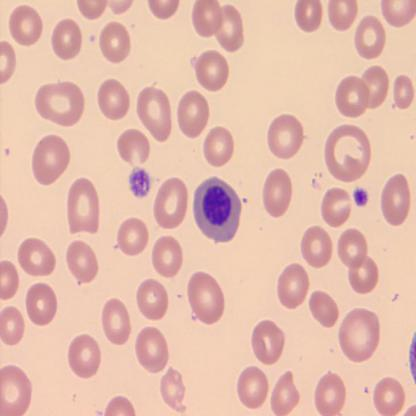NRC: (192, 176, 244, 244)
